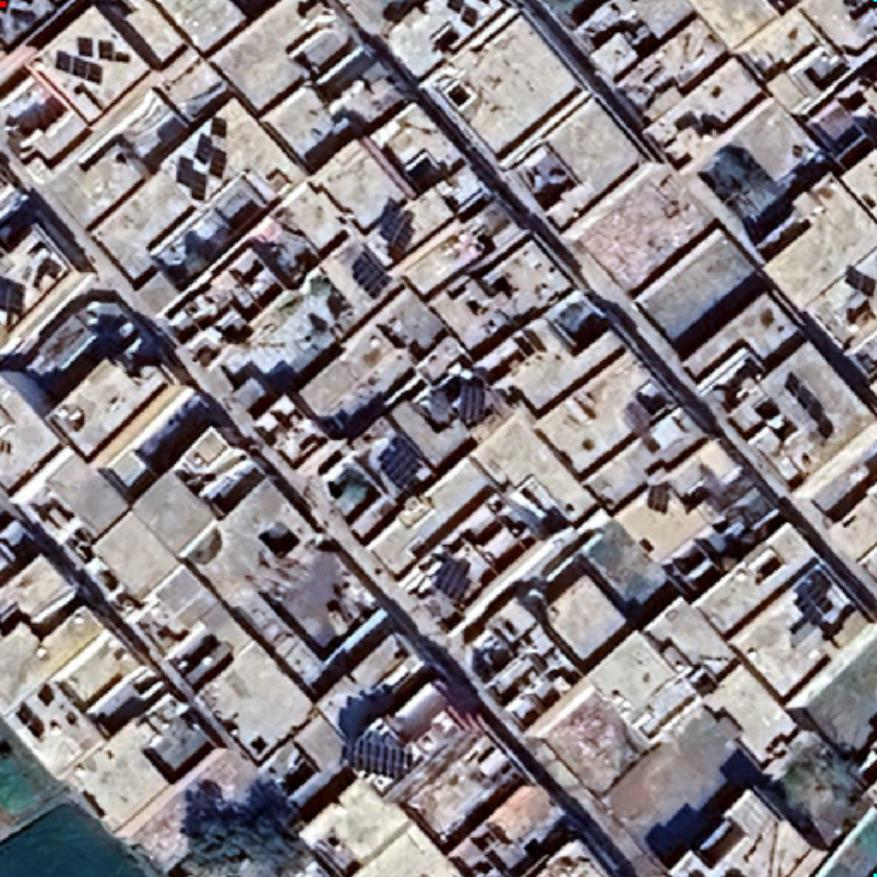Solarpanel: (374, 430, 429, 496), (344, 732, 414, 782), (347, 245, 395, 302), (376, 202, 418, 254), (432, 554, 475, 604), (52, 47, 104, 87), (455, 376, 489, 426), (0, 274, 26, 314), (205, 144, 228, 178), (96, 38, 118, 62), (208, 114, 228, 140), (75, 36, 95, 58)
